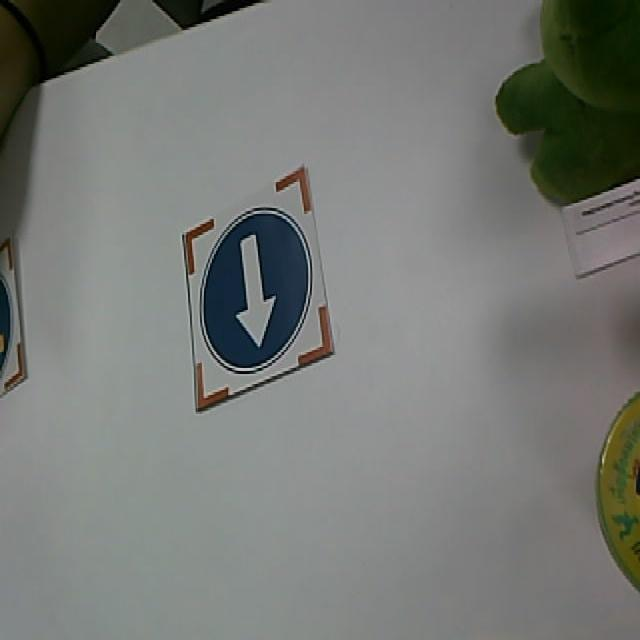straight: (199, 205, 315, 379)
